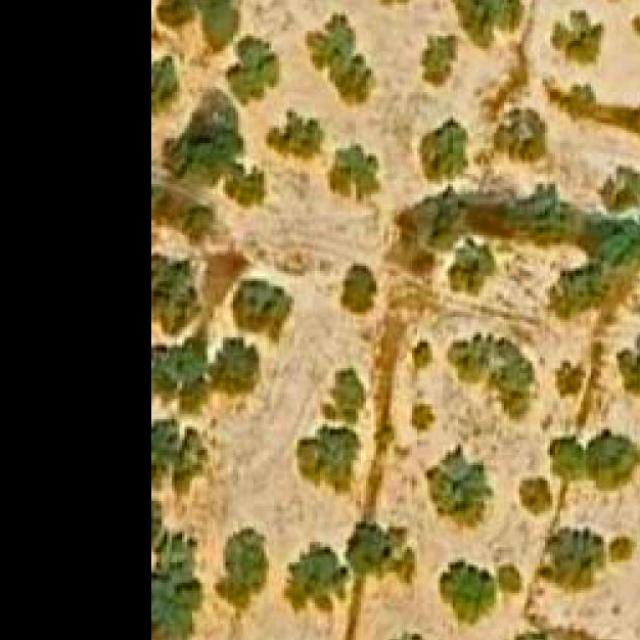Tree: (448, 330, 537, 416), (307, 11, 378, 108), (152, 511, 200, 640), (215, 526, 271, 618), (164, 115, 240, 180), (154, 414, 208, 504), (426, 450, 491, 524), (153, 327, 207, 416), (154, 250, 202, 336), (159, 0, 238, 51), (402, 189, 465, 251), (301, 429, 361, 494), (233, 281, 295, 341), (439, 560, 494, 627), (353, 521, 412, 581), (513, 184, 574, 242), (450, 0, 521, 49), (286, 547, 342, 608), (552, 10, 603, 75), (419, 115, 468, 180), (330, 141, 380, 203), (584, 213, 639, 269), (227, 39, 281, 95), (550, 532, 601, 588), (494, 108, 545, 162), (586, 438, 640, 488), (212, 332, 256, 393), (558, 268, 612, 317), (264, 112, 323, 156), (325, 366, 366, 422), (447, 248, 491, 300), (340, 264, 380, 315), (600, 162, 640, 212), (419, 36, 455, 85), (616, 332, 640, 394), (153, 56, 179, 112), (547, 439, 578, 484), (552, 358, 586, 397), (225, 172, 261, 208), (518, 478, 552, 516), (493, 560, 521, 597), (412, 341, 430, 374), (412, 407, 432, 430), (608, 540, 629, 560), (378, 0, 414, 10)
